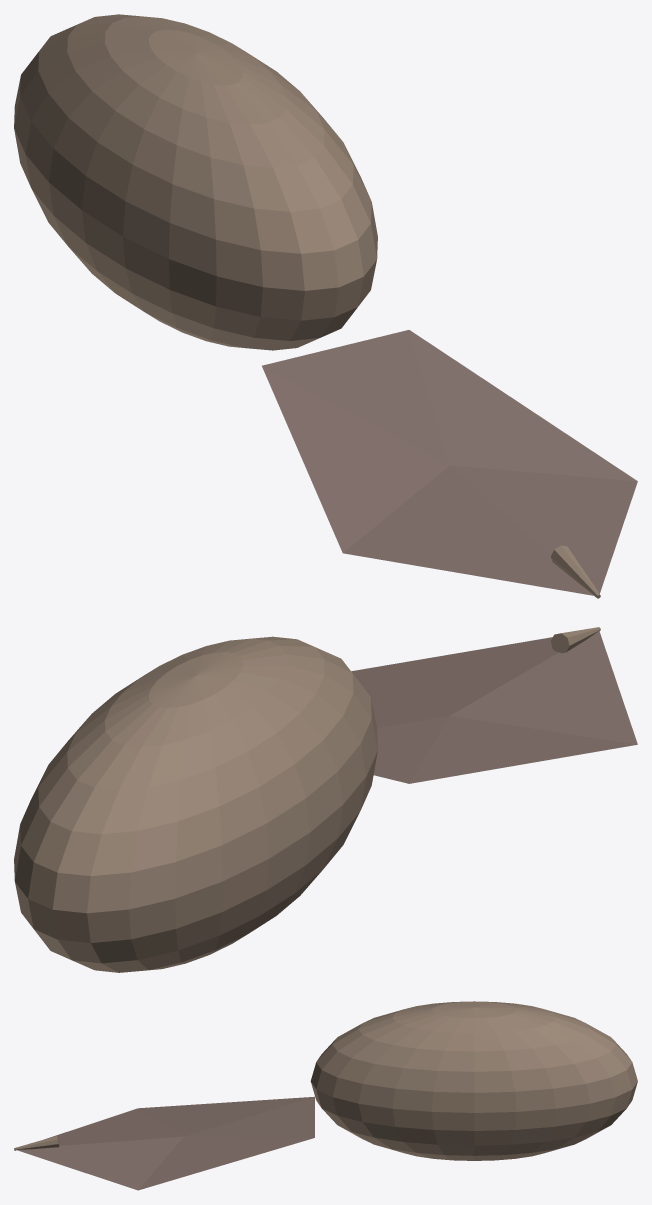
The model's file is bat_body_original_01.glb.
3 views of the same model, one above another, from view 1: azimuth 30°, elevation 25°; view 2: azimuth 150°, elevation 25°; view 3: azimuth 270°, elevation 25° (orthographic). The views are drawn at different scales.
Visible parts, largest first — view 1: B0_Torso, B0_TailWeb, B0_Tail; view 2: B0_Torso, B0_TailWeb, B0_Tail; view 3: B0_Torso, B0_TailWeb, B0_Tail.
Boxes of the visible parts, x1,y1,x2,y2 form: B0_Torso: [14, 14, 377, 350]; B0_TailWeb: [262, 330, 637, 595]; B0_Tail: [550, 545, 600, 598]; B0_Torso: [14, 636, 377, 972]; B0_TailWeb: [351, 631, 637, 783]; B0_Tail: [550, 627, 600, 653]; B0_Torso: [310, 1001, 637, 1160]; B0_TailWeb: [17, 1096, 314, 1190]; B0_Tail: [14, 1135, 59, 1150].
Bounding box in the file's own units: 0.22 × 0.184 × 0.7053.
